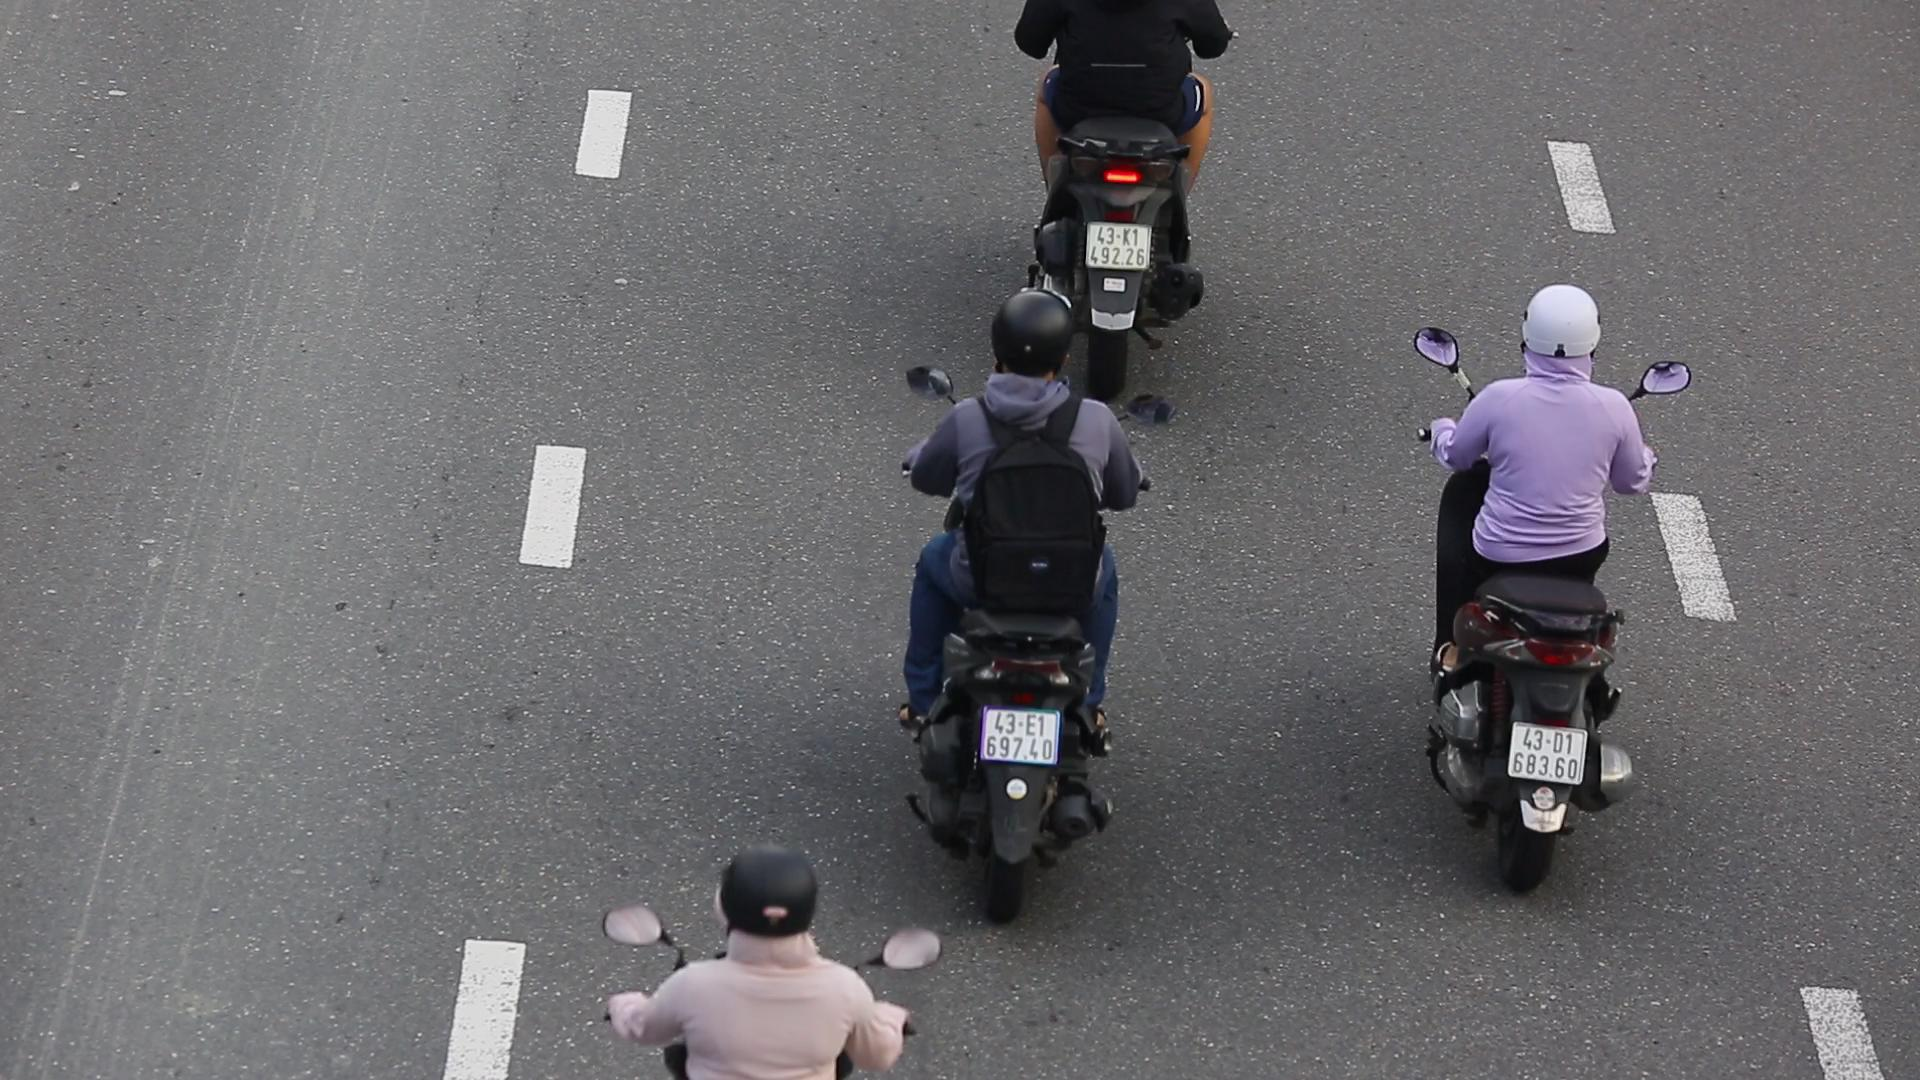motobike: (1394, 277, 1695, 893), (894, 287, 1155, 919)
